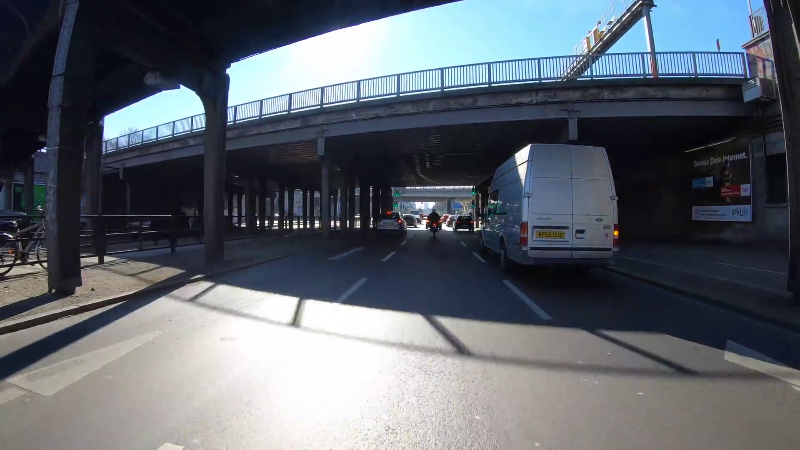Plate: (535, 229, 566, 239)
